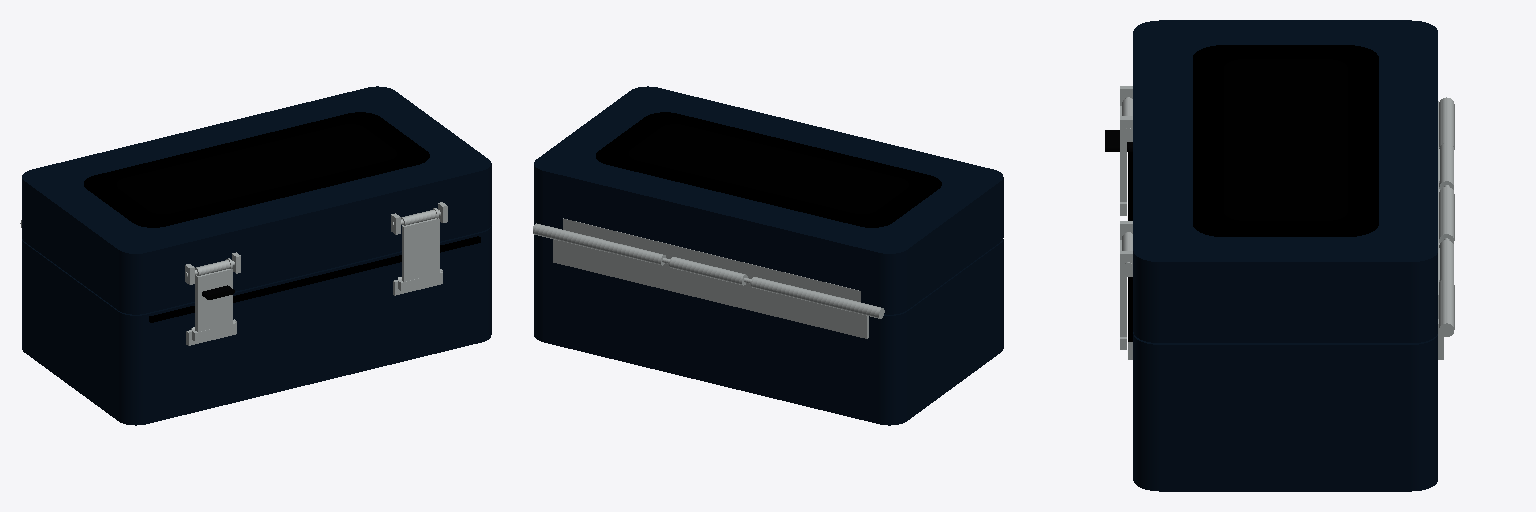
URDF robot description (premium_tackle_box):
<robot name="premium_tackle_box">
  <material name="painted_metal_deep_blue">
    <color rgba="0.05 0.1 0.16 1" />
    </material>
  <material name="satin_stainless">
    <color rgba="0.68 0.7 0.7 1" />
    </material>
  <material name="graphite_polymer">
    <color rgba="0.025 0.027 0.03 1" />
    </material>
  <material name="soft_black_elastomer">
    <color rgba="0.006 0.006 0.005 1" />
    </material>
  <material name="shadow_gap">
    <color rgba="0 0 0 1" />
    </material>
  <link name="base">
    <inertial>
      <origin xyz="0 0 0.065" rpy="0 0 0" />
      <mass value="1.1" />
      <inertia ixx="0.00705146" ixy="0" ixz="0" iyy="0.0209458" iyz="0" izz="0.024899" />
      </inertial>
    <visual name="base_shell">
      <geometry>
        <mesh filename="assets/meshes/base_shell.obj" />
        </geometry>
      <material name="painted_metal_deep_blue">
        <color rgba="0.05 0.1 0.16 1" />
        </material>
      </visual>
    <visual name="front_shadow_line">
      <origin xyz="0 -0.124 0.124" rpy="0 0 0" />
      <geometry>
        <box size="0.41 0.006 0.006" />
        </geometry>
      <material name="shadow_gap">
        <color rgba="0 0 0 1" />
        </material>
      </visual>
    <visual name="keeper_0">
      <origin xyz="-0.128 -0.1235 0.091" rpy="0 0 0" />
      <geometry>
        <box size="0.06 0.007 0.016" />
        </geometry>
      <material name="satin_stainless">
        <color rgba="0.68 0.7 0.7 1" />
        </material>
      </visual>
    <visual name="keeper_bar_0">
      <origin xyz="-0.128 -0.1215 0.098" rpy="0 1.5708 0" />
      <geometry>
        <cylinder radius="0.0035" length="0.048" />
        </geometry>
      <material name="satin_stainless">
        <color rgba="0.68 0.7 0.7 1" />
        </material>
      </visual>
    <visual name="keeper_1">
      <origin xyz="0.128 -0.1235 0.091" rpy="0 0 0" />
      <geometry>
        <box size="0.06 0.007 0.016" />
        </geometry>
      <material name="satin_stainless">
        <color rgba="0.68 0.7 0.7 1" />
        </material>
      </visual>
    <visual name="keeper_bar_1">
      <origin xyz="0.128 -0.1215 0.098" rpy="0 1.5708 0" />
      <geometry>
        <cylinder radius="0.0035" length="0.048" />
        </geometry>
      <material name="satin_stainless">
        <color rgba="0.68 0.7 0.7 1" />
        </material>
      </visual>
    <visual name="base_hinge_leaf">
      <origin xyz="0 0.1245 0.116" rpy="0 0 0" />
      <geometry>
        <box size="0.39 0.005 0.032" />
        </geometry>
      <material name="satin_stainless">
        <color rgba="0.68 0.7 0.7 1" />
        </material>
      </visual>
    <visual name="base_knuckle_0">
      <origin xyz="-0.172 0.1295 0.136" rpy="0 1.5708 0" />
      <geometry>
        <cylinder radius="0.0062" length="0.086" />
        </geometry>
      <material name="satin_stainless">
        <color rgba="0.68 0.7 0.7 1" />
        </material>
      </visual>
    <visual name="base_knuckle_1">
      <origin xyz="0 0.1295 0.136" rpy="0 1.5708 0" />
      <geometry>
        <cylinder radius="0.0062" length="0.09" />
        </geometry>
      <material name="satin_stainless">
        <color rgba="0.68 0.7 0.7 1" />
        </material>
      </visual>
    <visual name="base_knuckle_2">
      <origin xyz="0.172 0.1295 0.136" rpy="0 1.5708 0" />
      <geometry>
        <cylinder radius="0.0062" length="0.086" />
        </geometry>
      <material name="satin_stainless">
        <color rgba="0.68 0.7 0.7 1" />
        </material>
      </visual>
    <visual name="hinge_pin">
      <origin xyz="0 0.1295 0.136" rpy="0 1.5708 0" />
      <geometry>
        <cylinder radius="0.0026" length="0.405" />
        </geometry>
      <material name="satin_stainless">
        <color rgba="0.68 0.7 0.7 1" />
        </material>
      </visual>
    <visual name="foot_0">
      <origin xyz="-0.17 -0.082 -0.0015" rpy="0 0 0" />
      <geometry>
        <cylinder radius="0.021" length="0.006" />
        </geometry>
      <material name="soft_black_elastomer">
        <color rgba="0.006 0.006 0.005 1" />
        </material>
      </visual>
    <visual name="foot_1">
      <origin xyz="0.17 -0.082 -0.0015" rpy="0 0 0" />
      <geometry>
        <cylinder radius="0.021" length="0.006" />
        </geometry>
      <material name="soft_black_elastomer">
        <color rgba="0.006 0.006 0.005 1" />
        </material>
      </visual>
    <visual name="foot_2">
      <origin xyz="0.17 0.082 -0.0015" rpy="0 0 0" />
      <geometry>
        <cylinder radius="0.021" length="0.006" />
        </geometry>
      <material name="soft_black_elastomer">
        <color rgba="0.006 0.006 0.005 1" />
        </material>
      </visual>
    <visual name="foot_3">
      <origin xyz="-0.17 0.082 -0.0015" rpy="0 0 0" />
      <geometry>
        <cylinder radius="0.021" length="0.006" />
        </geometry>
      <material name="soft_black_elastomer">
        <color rgba="0.006 0.006 0.005 1" />
        </material>
      </visual>
    <collision name="base_shell">
      <geometry>
        <mesh filename="assets/meshes/base_shell.obj" />
        </geometry>
      </collision>
    <collision name="front_shadow_line">
      <origin xyz="0 -0.124 0.124" rpy="0 0 0" />
      <geometry>
        <box size="0.41 0.006 0.006" />
        </geometry>
      </collision>
    <collision name="keeper_0">
      <origin xyz="-0.128 -0.1235 0.091" rpy="0 0 0" />
      <geometry>
        <box size="0.06 0.007 0.016" />
        </geometry>
      </collision>
    <collision name="keeper_bar_0">
      <origin xyz="-0.128 -0.1215 0.098" rpy="0 1.5708 0" />
      <geometry>
        <cylinder radius="0.0035" length="0.048" />
        </geometry>
      </collision>
    <collision name="keeper_1">
      <origin xyz="0.128 -0.1235 0.091" rpy="0 0 0" />
      <geometry>
        <box size="0.06 0.007 0.016" />
        </geometry>
      </collision>
    <collision name="keeper_bar_1">
      <origin xyz="0.128 -0.1215 0.098" rpy="0 1.5708 0" />
      <geometry>
        <cylinder radius="0.0035" length="0.048" />
        </geometry>
      </collision>
    <collision name="base_hinge_leaf">
      <origin xyz="0 0.1245 0.116" rpy="0 0 0" />
      <geometry>
        <box size="0.39 0.005 0.032" />
        </geometry>
      </collision>
    <collision name="base_knuckle_0">
      <origin xyz="-0.172 0.1295 0.136" rpy="0 1.5708 0" />
      <geometry>
        <cylinder radius="0.0062" length="0.086" />
        </geometry>
      </collision>
    <collision name="base_knuckle_1">
      <origin xyz="0 0.1295 0.136" rpy="0 1.5708 0" />
      <geometry>
        <cylinder radius="0.0062" length="0.09" />
        </geometry>
      </collision>
    <collision name="base_knuckle_2">
      <origin xyz="0.172 0.1295 0.136" rpy="0 1.5708 0" />
      <geometry>
        <cylinder radius="0.0062" length="0.086" />
        </geometry>
      </collision>
    <collision name="hinge_pin">
      <origin xyz="0 0.1295 0.136" rpy="0 1.5708 0" />
      <geometry>
        <cylinder radius="0.0026" length="0.405" />
        </geometry>
      </collision>
    <collision name="foot_0">
      <origin xyz="-0.17 -0.082 -0.0015" rpy="0 0 0" />
      <geometry>
        <cylinder radius="0.021" length="0.006" />
        </geometry>
      </collision>
    <collision name="foot_1">
      <origin xyz="0.17 -0.082 -0.0015" rpy="0 0 0" />
      <geometry>
        <cylinder radius="0.021" length="0.006" />
        </geometry>
      </collision>
    <collision name="foot_2">
      <origin xyz="0.17 0.082 -0.0015" rpy="0 0 0" />
      <geometry>
        <cylinder radius="0.021" length="0.006" />
        </geometry>
      </collision>
    <collision name="foot_3">
      <origin xyz="-0.17 0.082 -0.0015" rpy="0 0 0" />
      <geometry>
        <cylinder radius="0.021" length="0.006" />
        </geometry>
      </collision>
    </link>
  <link name="lid">
    <inertial>
      <origin xyz="0 -0.1295 0.0315" rpy="0 0 0" />
      <mass value="0.75" />
      <inertia ixx="0.00407556" ixy="0" ixz="0" iyy="0.013549" iyz="0" izz="0.0169766" />
      </inertial>
    <visual name="lid_shell">
      <geometry>
        <mesh filename="assets/meshes/lid_shell.obj" />
        </geometry>
      <material name="painted_metal_deep_blue">
        <color rgba="0.05 0.1 0.16 1" />
        </material>
      </visual>
    <visual name="top_grip_pad">
      <origin xyz="0 -0.1295 0.068" rpy="0 0 0" />
      <geometry>
        <mesh filename="assets/meshes/top_grip_pad.obj" />
        </geometry>
      <material name="soft_black_elastomer">
        <color rgba="0.006 0.006 0.005 1" />
        </material>
      </visual>
    <visual name="lid_recess_panel">
      <origin xyz="0 -0.1295 0.0668" rpy="0 0 0" />
      <geometry>
        <mesh filename="assets/meshes/lid_recess_panel.obj" />
        </geometry>
      <material name="shadow_gap">
        <color rgba="0 0 0 1" />
        </material>
      </visual>
    <visual name="lid_hinge_leaf">
      <origin xyz="0 -0.01025 0.005" rpy="0 0 0" />
      <geometry>
        <box size="0.37 0.0075 0.024" />
        </geometry>
      <material name="satin_stainless">
        <color rgba="0.68 0.7 0.7 1" />
        </material>
      </visual>
    <visual name="knuckle_web_0">
      <origin xyz="-0.094 -0.006 0" rpy="0 0 0" />
      <geometry>
        <box size="0.062 0.009 0.005" />
        </geometry>
      <material name="satin_stainless">
        <color rgba="0.68 0.7 0.7 1" />
        </material>
      </visual>
    <visual name="lid_knuckle_0">
      <origin xyz="-0.094 0 0" rpy="0 1.5708 0" />
      <geometry>
        <cylinder radius="0.006" length="0.076" />
        </geometry>
      <material name="satin_stainless">
        <color rgba="0.68 0.7 0.7 1" />
        </material>
      </visual>
    <visual name="knuckle_web_1">
      <origin xyz="0.094 -0.006 0" rpy="0 0 0" />
      <geometry>
        <box size="0.062 0.009 0.005" />
        </geometry>
      <material name="satin_stainless">
        <color rgba="0.68 0.7 0.7 1" />
        </material>
      </visual>
    <visual name="lid_knuckle_1">
      <origin xyz="0.094 0 0" rpy="0 1.5708 0" />
      <geometry>
        <cylinder radius="0.006" length="0.076" />
        </geometry>
      <material name="satin_stainless">
        <color rgba="0.68 0.7 0.7 1" />
        </material>
      </visual>
    <visual name="latch_clevis_0_0">
      <origin xyz="-0.157 -0.256 0.032" rpy="0 0 0" />
      <geometry>
        <box size="0.006 0.013 0.02" />
        </geometry>
      <material name="satin_stainless">
        <color rgba="0.68 0.7 0.7 1" />
        </material>
      </visual>
    <visual name="latch_clevis_0_1">
      <origin xyz="-0.099 -0.256 0.032" rpy="0 0 0" />
      <geometry>
        <box size="0.006 0.013 0.02" />
        </geometry>
      <material name="satin_stainless">
        <color rgba="0.68 0.7 0.7 1" />
        </material>
      </visual>
    <visual name="latch_pivot_pin_0">
      <origin xyz="-0.128 -0.256 0.032" rpy="0 1.5708 0" />
      <geometry>
        <cylinder radius="0.003" length="0.066" />
        </geometry>
      <material name="satin_stainless">
        <color rgba="0.68 0.7 0.7 1" />
        </material>
      </visual>
    <visual name="latch_clevis_1_0">
      <origin xyz="0.099 -0.256 0.032" rpy="0 0 0" />
      <geometry>
        <box size="0.006 0.013 0.02" />
        </geometry>
      <material name="satin_stainless">
        <color rgba="0.68 0.7 0.7 1" />
        </material>
      </visual>
    <visual name="latch_clevis_1_1">
      <origin xyz="0.157 -0.256 0.032" rpy="0 0 0" />
      <geometry>
        <box size="0.006 0.013 0.02" />
        </geometry>
      <material name="satin_stainless">
        <color rgba="0.68 0.7 0.7 1" />
        </material>
      </visual>
    <visual name="latch_pivot_pin_1">
      <origin xyz="0.128 -0.256 0.032" rpy="0 1.5708 0" />
      <geometry>
        <cylinder radius="0.003" length="0.066" />
        </geometry>
      <material name="satin_stainless">
        <color rgba="0.68 0.7 0.7 1" />
        </material>
      </visual>
    <collision name="lid_shell">
      <geometry>
        <mesh filename="assets/meshes/lid_shell.obj" />
        </geometry>
      </collision>
    <collision name="top_grip_pad">
      <origin xyz="0 -0.1295 0.068" rpy="0 0 0" />
      <geometry>
        <mesh filename="assets/meshes/top_grip_pad.obj" />
        </geometry>
      </collision>
    <collision name="lid_recess_panel">
      <origin xyz="0 -0.1295 0.0668" rpy="0 0 0" />
      <geometry>
        <mesh filename="assets/meshes/lid_recess_panel.obj" />
        </geometry>
      </collision>
    <collision name="lid_hinge_leaf">
      <origin xyz="0 -0.01025 0.005" rpy="0 0 0" />
      <geometry>
        <box size="0.37 0.0075 0.024" />
        </geometry>
      </collision>
    <collision name="knuckle_web_0">
      <origin xyz="-0.094 -0.006 0" rpy="0 0 0" />
      <geometry>
        <box size="0.062 0.009 0.005" />
        </geometry>
      </collision>
    <collision name="lid_knuckle_0">
      <origin xyz="-0.094 0 0" rpy="0 1.5708 0" />
      <geometry>
        <cylinder radius="0.006" length="0.076" />
        </geometry>
      </collision>
    <collision name="knuckle_web_1">
      <origin xyz="0.094 -0.006 0" rpy="0 0 0" />
      <geometry>
        <box size="0.062 0.009 0.005" />
        </geometry>
      </collision>
    <collision name="lid_knuckle_1">
      <origin xyz="0.094 0 0" rpy="0 1.5708 0" />
      <geometry>
        <cylinder radius="0.006" length="0.076" />
        </geometry>
      </collision>
    <collision name="latch_clevis_0_0">
      <origin xyz="-0.157 -0.256 0.032" rpy="0 0 0" />
      <geometry>
        <box size="0.006 0.013 0.02" />
        </geometry>
      </collision>
    <collision name="latch_clevis_0_1">
      <origin xyz="-0.099 -0.256 0.032" rpy="0 0 0" />
      <geometry>
        <box size="0.006 0.013 0.02" />
        </geometry>
      </collision>
    <collision name="latch_pivot_pin_0">
      <origin xyz="-0.128 -0.256 0.032" rpy="0 1.5708 0" />
      <geometry>
        <cylinder radius="0.003" length="0.066" />
        </geometry>
      </collision>
    <collision name="latch_clevis_1_0">
      <origin xyz="0.099 -0.256 0.032" rpy="0 0 0" />
      <geometry>
        <box size="0.006 0.013 0.02" />
        </geometry>
      </collision>
    <collision name="latch_clevis_1_1">
      <origin xyz="0.157 -0.256 0.032" rpy="0 0 0" />
      <geometry>
        <box size="0.006 0.013 0.02" />
        </geometry>
      </collision>
    <collision name="latch_pivot_pin_1">
      <origin xyz="0.128 -0.256 0.032" rpy="0 1.5708 0" />
      <geometry>
        <cylinder radius="0.003" length="0.066" />
        </geometry>
      </collision>
    </link>
  <link name="latch_0">
    <inertial>
      <origin xyz="0 -0.004 -0.04" rpy="0 0 0" />
      <mass value="0.05" />
      <inertia ixx="3.12333e-05" ixy="0" ixz="0" iyy="4.20833e-05" iyz="0" izz="1.16833e-05" />
      </inertial>
    <visual name="pivot_barrel">
      <origin xyz="0 0 0" rpy="0 1.5708 0" />
      <geometry>
        <cylinder radius="0.0051" length="0.04" />
        </geometry>
      <material name="satin_stainless">
        <color rgba="0.68 0.7 0.7 1" />
        </material>
      </visual>
    <visual name="lever_plate">
      <origin xyz="0 -0.004 -0.037" rpy="0 0 0" />
      <geometry>
        <box size="0.044 0.0055 0.068" />
        </geometry>
      <material name="satin_stainless">
        <color rgba="0.68 0.7 0.7 1" />
        </material>
      </visual>
    <visual name="thumb_pad">
      <origin xyz="0 -0.0075 -0.024" rpy="1.5708 0 0" />
      <geometry>
        <mesh filename="assets/meshes/latch_thumb_0.obj" />
        </geometry>
      <material name="graphite_polymer">
        <color rgba="0.025 0.027 0.03 1" />
        </material>
      </visual>
    <visual name="hook">
      <origin xyz="0 -0.004 -0.073" rpy="0 0 0" />
      <geometry>
        <box size="0.052 0.006 0.01" />
        </geometry>
      <material name="satin_stainless">
        <color rgba="0.68 0.7 0.7 1" />
        </material>
      </visual>
    <visual name="rivet_cap">
      <origin xyz="0.0208 0 0" rpy="0 1.5708 0" />
      <geometry>
        <cylinder radius="0.0065" length="0.0025" />
        </geometry>
      <material name="satin_stainless">
        <color rgba="0.68 0.7 0.7 1" />
        </material>
      </visual>
    <collision name="pivot_barrel">
      <origin xyz="0 0 0" rpy="0 1.5708 0" />
      <geometry>
        <cylinder radius="0.0051" length="0.04" />
        </geometry>
      </collision>
    <collision name="lever_plate">
      <origin xyz="0 -0.004 -0.037" rpy="0 0 0" />
      <geometry>
        <box size="0.044 0.0055 0.068" />
        </geometry>
      </collision>
    <collision name="thumb_pad">
      <origin xyz="0 -0.0075 -0.024" rpy="1.5708 0 0" />
      <geometry>
        <mesh filename="assets/meshes/latch_thumb_0.obj" />
        </geometry>
      </collision>
    <collision name="hook">
      <origin xyz="0 -0.004 -0.073" rpy="0 0 0" />
      <geometry>
        <box size="0.052 0.006 0.01" />
        </geometry>
      </collision>
    <collision name="rivet_cap">
      <origin xyz="0.0208 0 0" rpy="0 1.5708 0" />
      <geometry>
        <cylinder radius="0.0065" length="0.0025" />
        </geometry>
      </collision>
    </link>
  <link name="latch_1">
    <inertial>
      <origin xyz="0 -0.004 -0.04" rpy="0 0 0" />
      <mass value="0.05" />
      <inertia ixx="3.12333e-05" ixy="0" ixz="0" iyy="4.20833e-05" iyz="0" izz="1.16833e-05" />
      </inertial>
    <visual name="pivot_barrel">
      <origin xyz="0 0 0" rpy="0 1.5708 0" />
      <geometry>
        <cylinder radius="0.0051" length="0.04" />
        </geometry>
      <material name="satin_stainless">
        <color rgba="0.68 0.7 0.7 1" />
        </material>
      </visual>
    <visual name="lever_plate">
      <origin xyz="0 -0.004 -0.037" rpy="0 0 0" />
      <geometry>
        <box size="0.044 0.0055 0.068" />
        </geometry>
      <material name="satin_stainless">
        <color rgba="0.68 0.7 0.7 1" />
        </material>
      </visual>
    <visual name="thumb_pad">
      <origin xyz="0 -0.0075 -0.024" rpy="1.5708 0 0" />
      <geometry>
        <mesh filename="assets/meshes/latch_thumb_1.obj" />
        </geometry>
      <material name="graphite_polymer">
        <color rgba="0.025 0.027 0.03 1" />
        </material>
      </visual>
    <visual name="hook">
      <origin xyz="0 -0.004 -0.073" rpy="0 0 0" />
      <geometry>
        <box size="0.052 0.006 0.01" />
        </geometry>
      <material name="satin_stainless">
        <color rgba="0.68 0.7 0.7 1" />
        </material>
      </visual>
    <visual name="rivet_cap">
      <origin xyz="0.0208 0 0" rpy="0 1.5708 0" />
      <geometry>
        <cylinder radius="0.0065" length="0.0025" />
        </geometry>
      <material name="satin_stainless">
        <color rgba="0.68 0.7 0.7 1" />
        </material>
      </visual>
    <collision name="pivot_barrel">
      <origin xyz="0 0 0" rpy="0 1.5708 0" />
      <geometry>
        <cylinder radius="0.0051" length="0.04" />
        </geometry>
      </collision>
    <collision name="lever_plate">
      <origin xyz="0 -0.004 -0.037" rpy="0 0 0" />
      <geometry>
        <box size="0.044 0.0055 0.068" />
        </geometry>
      </collision>
    <collision name="thumb_pad">
      <origin xyz="0 -0.0075 -0.024" rpy="1.5708 0 0" />
      <geometry>
        <mesh filename="assets/meshes/latch_thumb_1.obj" />
        </geometry>
      </collision>
    <collision name="hook">
      <origin xyz="0 -0.004 -0.073" rpy="0 0 0" />
      <geometry>
        <box size="0.052 0.006 0.01" />
        </geometry>
      </collision>
    <collision name="rivet_cap">
      <origin xyz="0.0208 0 0" rpy="0 1.5708 0" />
      <geometry>
        <cylinder radius="0.0065" length="0.0025" />
        </geometry>
      </collision>
    </link>
  <joint name="base_to_lid" type="revolute">
    <origin xyz="0 0.1295 0.136" rpy="0 0 0" />
    <parent link="base" />
    <child link="lid" />
    <axis xyz="-1 0 0" />
    <limit effort="14" velocity="1.5" lower="0" upper="1.35" />
    </joint>
  <joint name="lid_to_latch_0" type="revolute">
    <origin xyz="-0.128 -0.256 0.032" rpy="0 0 0" />
    <parent link="lid" />
    <child link="latch_0" />
    <axis xyz="-1 0 0" />
    <limit effort="3" velocity="2.5" lower="0" upper="1.05" />
    </joint>
  <joint name="lid_to_latch_1" type="revolute">
    <origin xyz="0.128 -0.256 0.032" rpy="0 0 0" />
    <parent link="lid" />
    <child link="latch_1" />
    <axis xyz="-1 0 0" />
    <limit effort="3" velocity="2.5" lower="0" upper="1.05" />
    </joint>
  </robot>

--- Facts derived from the render (not from the file) ---
The picture shows the robot from 3 angles, left to right: view 1: azimuth 30°, elevation 25°; view 2: azimuth 150°, elevation 25°; view 3: azimuth 270°, elevation 25°; orthographic projection.
Robot: premium_tackle_box — 4 links, 3 joints (3 revolute); root link base; default pose: every joint at zero.
Links seen in each view (by area): view 1: lid, base, latch_0, latch_1; view 2: lid, base; view 3: lid, base, latch_0, latch_1.
Link boxes in pixels (x1,y1,x2,y2): lid: (22,86,491,314); base: (20,220,491,425); latch_0: (192,258,236,340); latch_1: (398,208,442,290); lid: (534,86,1003,314); base: (533,223,1003,425); lid: (1120,20,1453,342); base: (1128,97,1454,491); latch_0: (1105,98,1132,215); latch_1: (1120,232,1132,349).
Size in the robot's own frame: 0.46 by 0.2807 by 0.21 metres.
5 mesh visuals loaded from 6 distinct referenced files (5 OBJ); not drawn: 1 (reference not matched to a file when rendering).
